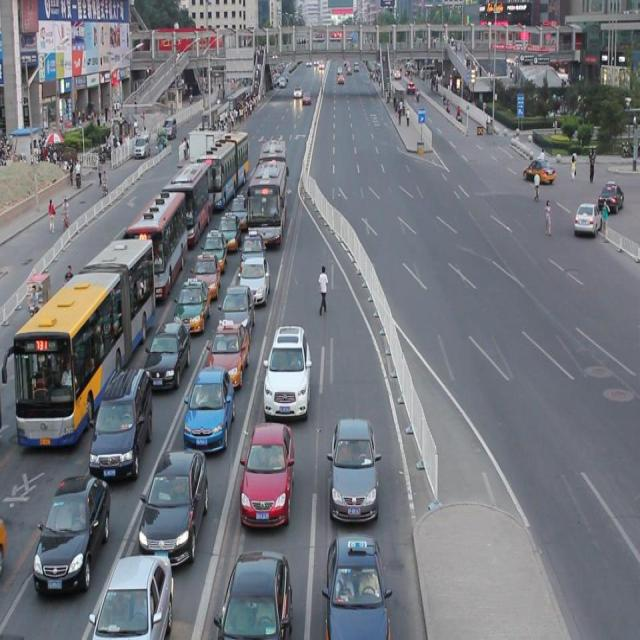bus: (188, 129, 231, 173)
car: (33, 472, 111, 591), (137, 445, 208, 565), (89, 552, 175, 640), (89, 366, 153, 482), (322, 532, 390, 640), (218, 548, 292, 640), (241, 421, 294, 527), (328, 419, 381, 523), (263, 322, 310, 418), (182, 364, 234, 448), (144, 318, 192, 389), (205, 316, 250, 387), (172, 276, 212, 334), (218, 283, 256, 339), (239, 256, 270, 302), (191, 253, 221, 297), (200, 228, 227, 272), (572, 201, 602, 235), (240, 230, 265, 268), (521, 156, 554, 184), (217, 211, 240, 250), (595, 181, 622, 214), (228, 192, 250, 230)
van: (0, 235, 154, 451), (123, 192, 188, 300), (162, 164, 215, 246), (196, 133, 250, 210), (246, 159, 288, 248), (258, 139, 288, 192)
